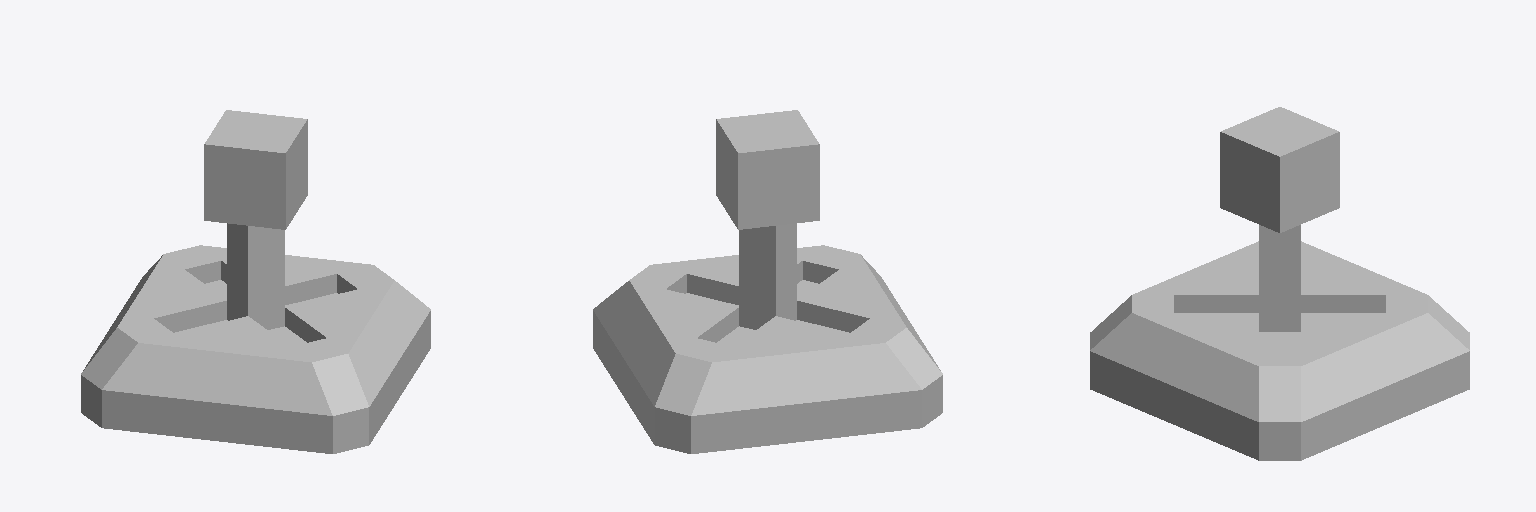
The model's file is lever_5state_0.obj.
The picture shows the model from 3 angles: view 1: azimuth 30°, elevation 25°; view 2: azimuth 150°, elevation 25°; view 3: azimuth 270°, elevation 25°; orthographic projection.
Visible parts, largest first — view 1: 5-STATE_Circle.004, LEVER_Cube.049; view 2: 5-STATE_Circle.004, LEVER_Cube.049; view 3: 5-STATE_Circle.004, LEVER_Cube.049.
Part boxes in pixels (x1,y1,x2,y2): 5-STATE_Circle.004: (81,245,430,453); LEVER_Cube.049: (204,110,307,329); 5-STATE_Circle.004: (593,245,942,453); LEVER_Cube.049: (716,110,819,329); 5-STATE_Circle.004: (1090,241,1469,460); LEVER_Cube.049: (1220,107,1339,331).
Size of the model in its own units: 0.5635 by 0.4062 by 0.5635.